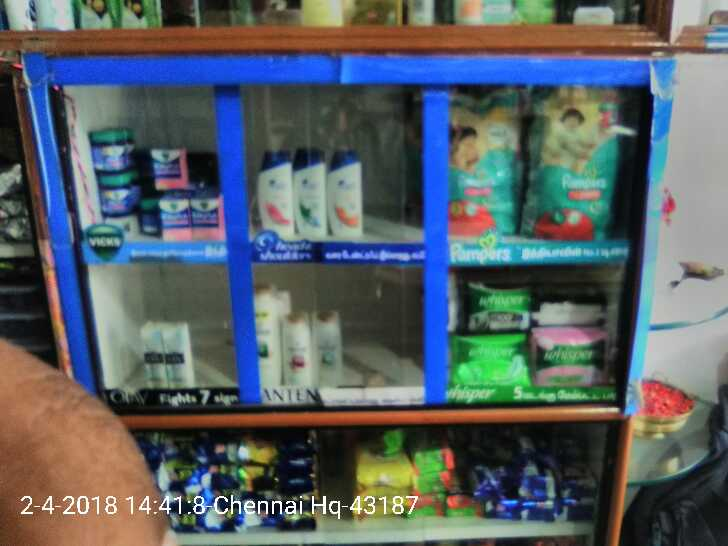vicks: (91, 117, 227, 242)
